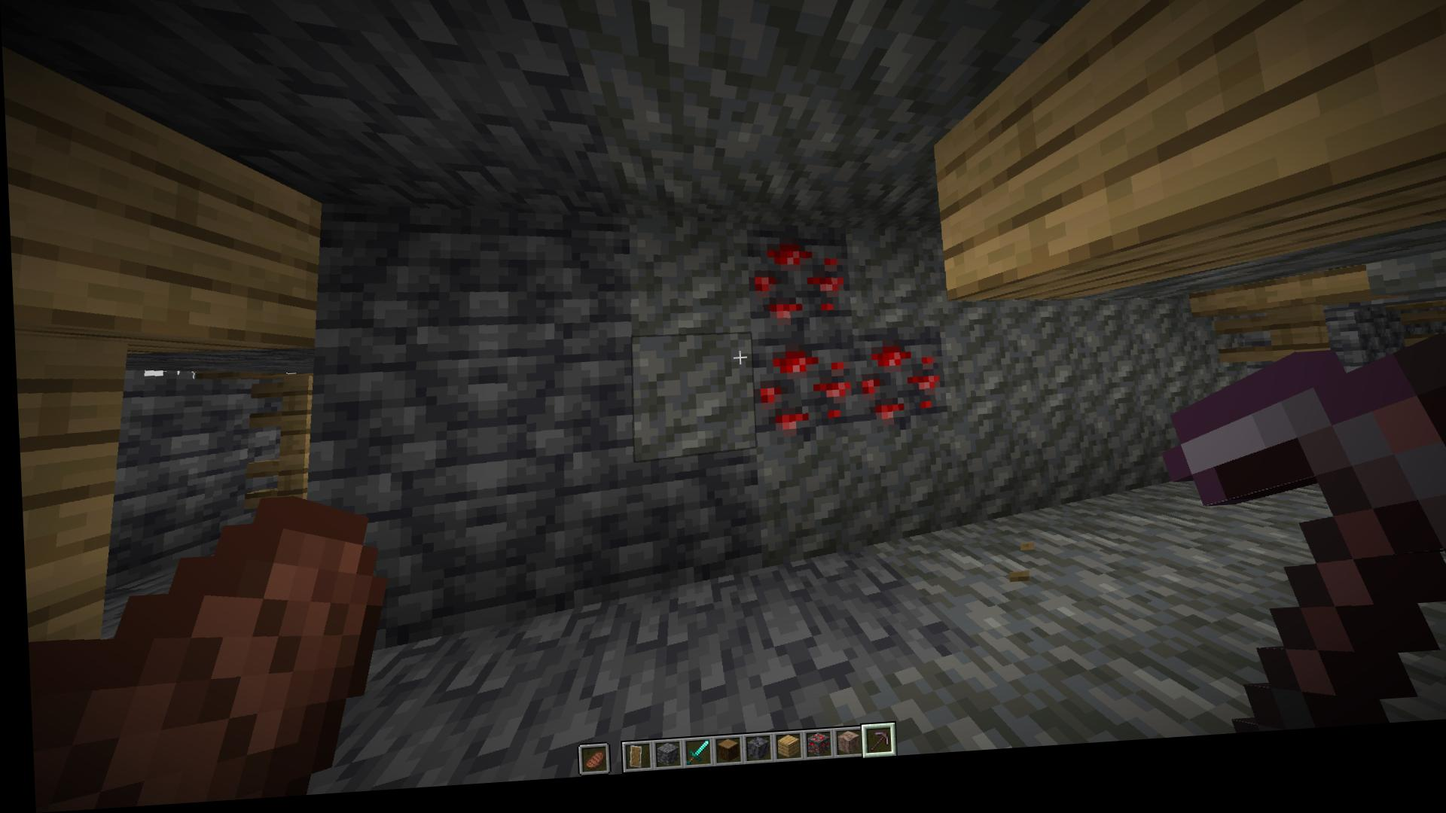redstone ore: (745, 235, 849, 345), (748, 339, 856, 442), (847, 335, 946, 436)
